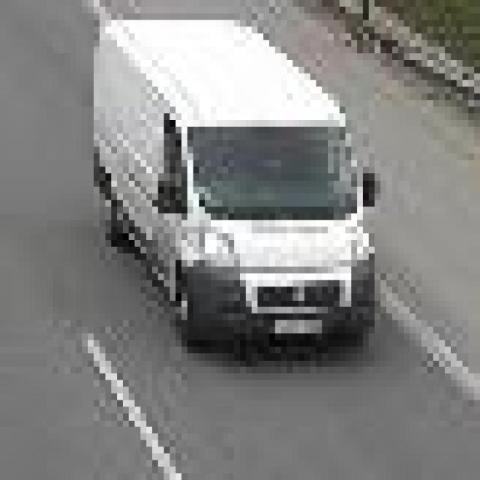van: (94, 16, 375, 350)
